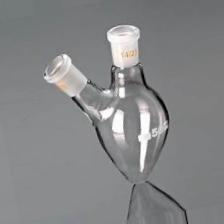Pear shaped flask: (37, 24, 177, 184)
